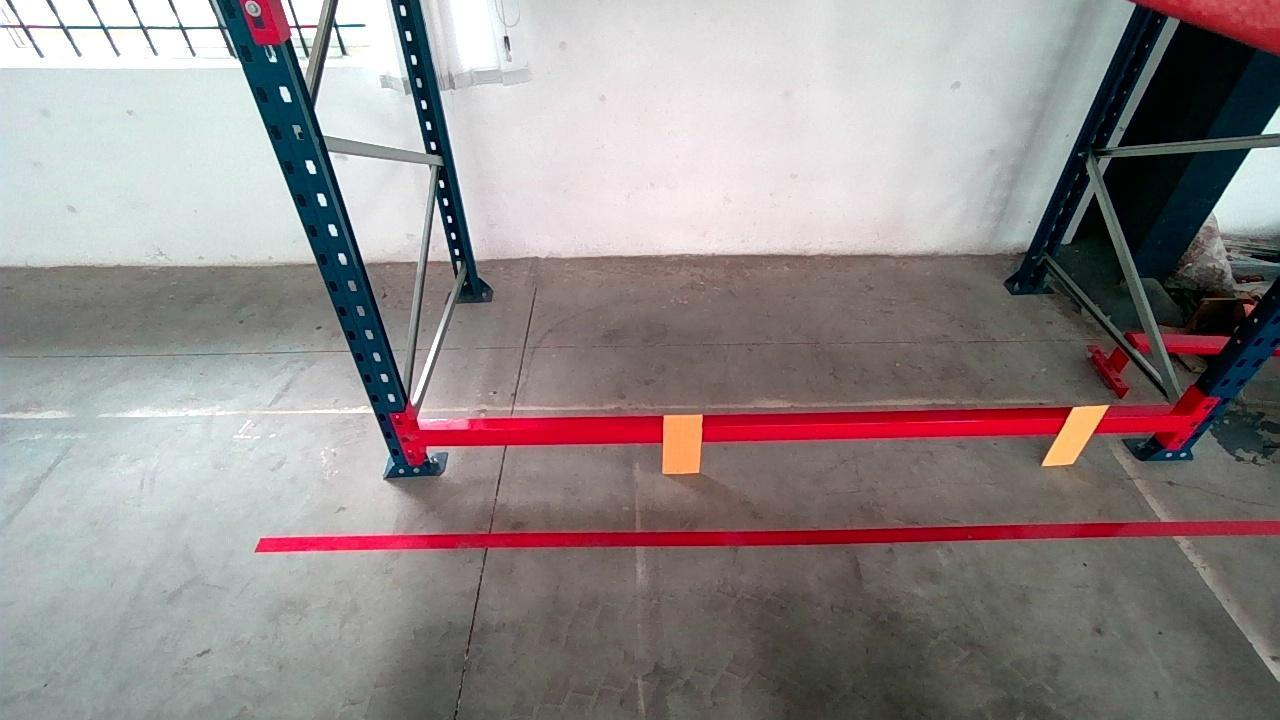h_rack: (413, 414, 1191, 444)
orange_strip: (1043, 404, 1111, 464), (663, 413, 704, 473)
red_line: (251, 522, 1280, 554)
